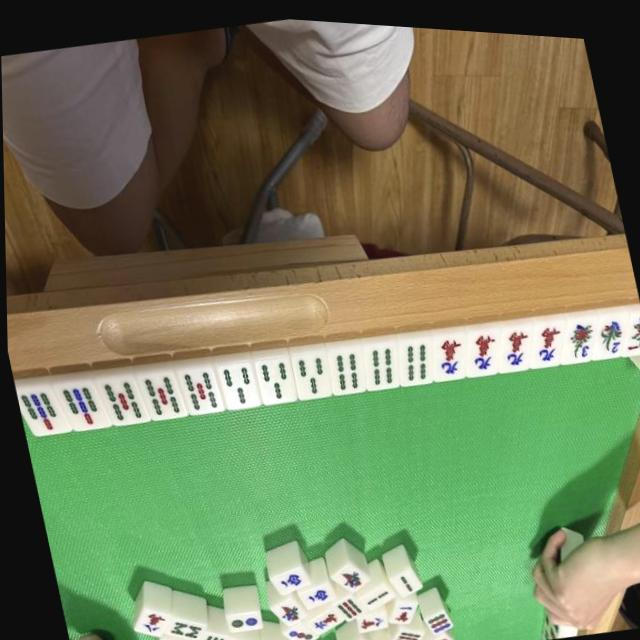bf2: (594, 300, 627, 351)
bf3: (562, 307, 597, 356)
sb3: (254, 349, 294, 404), (217, 355, 258, 407), (291, 346, 330, 394)
sb4: (330, 342, 366, 391), (399, 332, 433, 380), (364, 339, 398, 386)
sb5: (100, 373, 144, 427), (179, 362, 220, 416), (141, 368, 182, 418)
sb7: (58, 380, 104, 434), (17, 383, 60, 436)
sc9: (528, 312, 565, 362), (430, 325, 467, 374), (499, 314, 533, 366), (466, 318, 500, 368)
